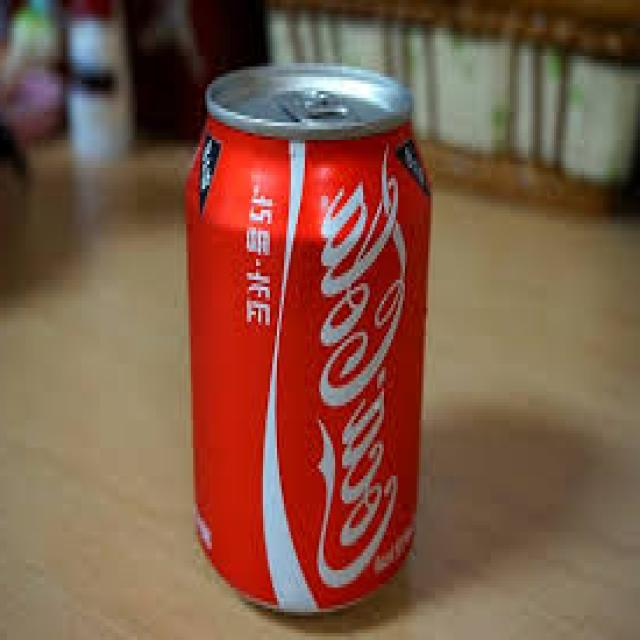Coca-Cola: (174, 62, 440, 628)
